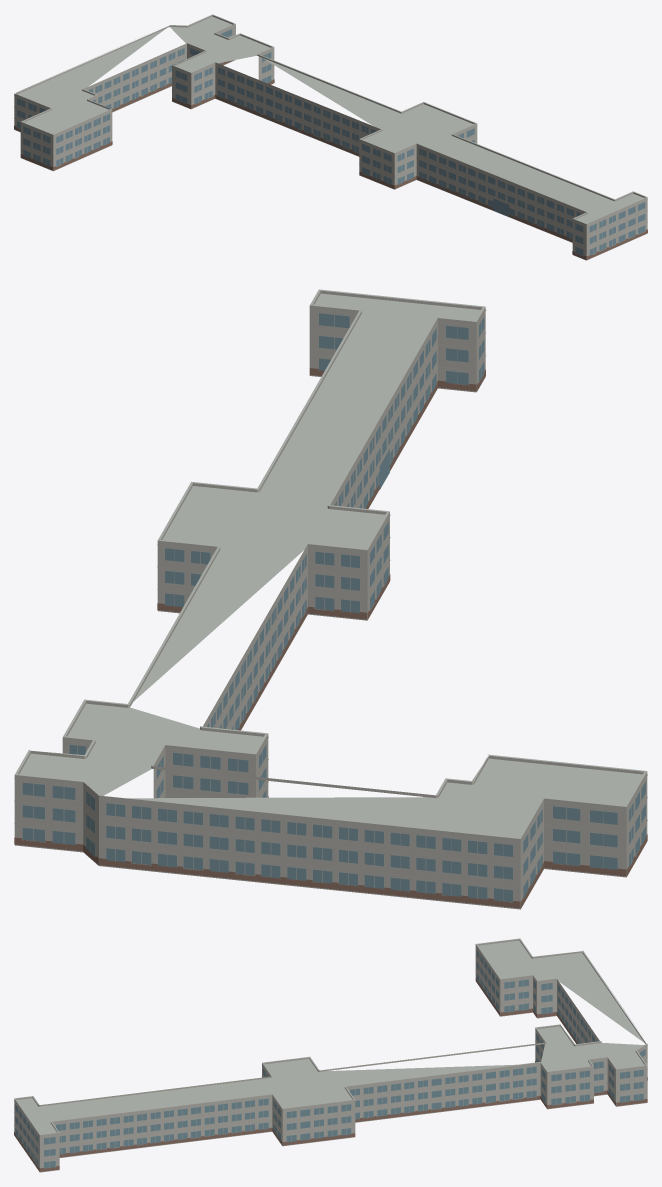
The model's file is public-cab64984-23b9-400a-b13b-f5bc4a83b0cc.glb.
3 views of the same model, one above another, from view 1: azimuth 30°, elevation 25°; view 2: azimuth 150°, elevation 25°; view 3: azimuth 270°, elevation 25° (orthographic). The views are drawn at different scales.
Parts seen in each view (by area): view 1: public-cab64984-23b9-400a-b13b-f5bc4a83b0cc; view 2: public-cab64984-23b9-400a-b13b-f5bc4a83b0cc; view 3: public-cab64984-23b9-400a-b13b-f5bc4a83b0cc.
Boxes of the visible parts, x1,y1,x2,y2 form: public-cab64984-23b9-400a-b13b-f5bc4a83b0cc: (14,14,647,260); public-cab64984-23b9-400a-b13b-f5bc4a83b0cc: (14,289,647,909); public-cab64984-23b9-400a-b13b-f5bc4a83b0cc: (14,938,647,1172).
Bounding box in the file's own units: 103 × 9.15 × 141.
